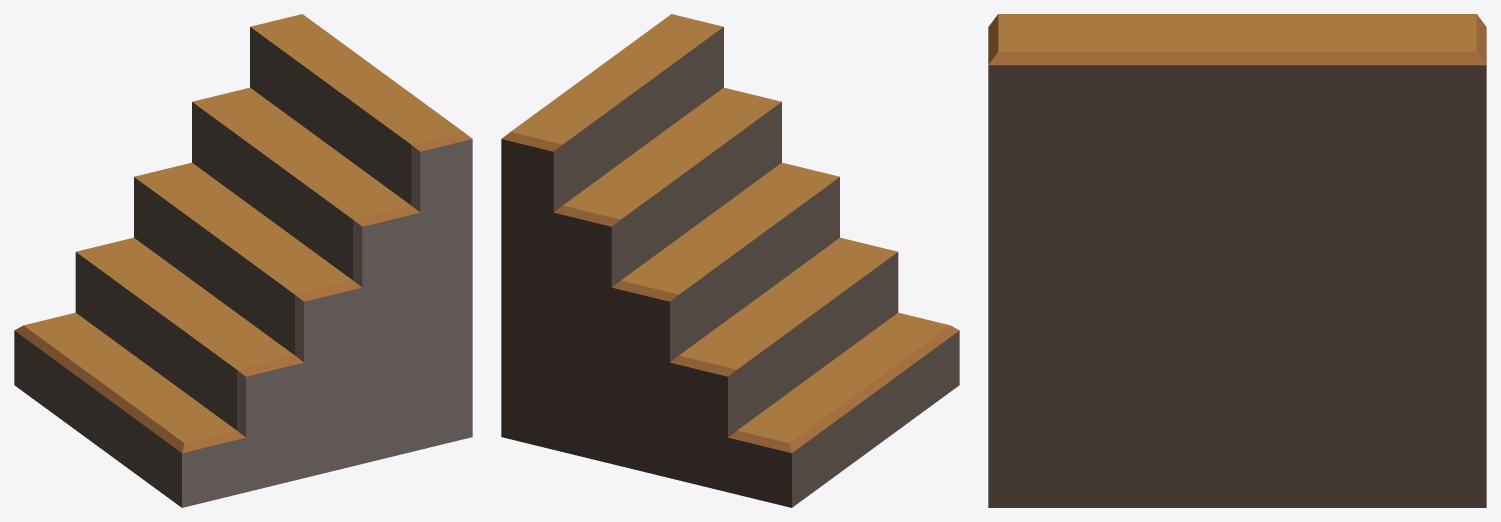
The model's file is earth steps_E.FBX.
3 renders of one model, left to right at view 1: azimuth 30°, elevation 25°; view 2: azimuth 150°, elevation 25°; view 3: azimuth 270°, elevation 25°, orthographic. The views are drawn at different scales.
Parts seen in each view (by area): view 1: earth steps_E; view 2: earth steps_E; view 3: earth steps_E.
Boxes of the visible parts, <box> form: earth steps_E: <box>14,14,472,507</box>; earth steps_E: <box>501,14,959,507</box>; earth steps_E: <box>988,14,1486,507</box>.
Bounding box in the file's own units: 100 × 100 × 100.
